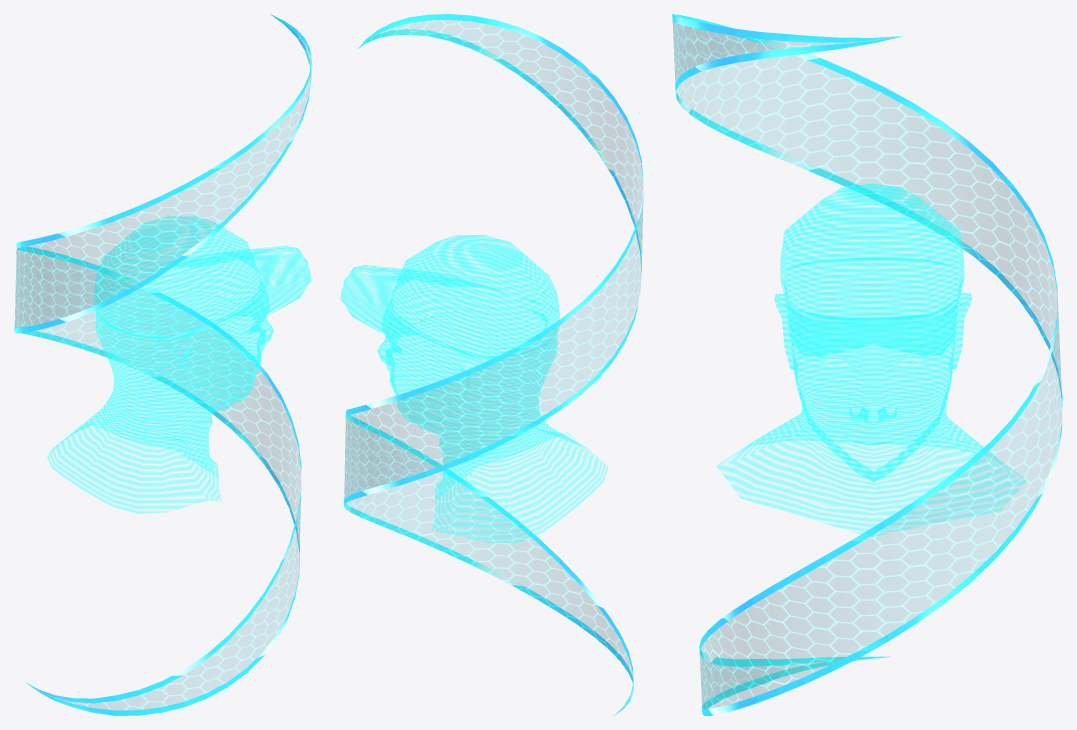
File: hologram.glb
3 renders of one model, left to right at view 1: azimuth 30°, elevation 25°; view 2: azimuth 150°, elevation 25°; view 3: azimuth 270°, elevation 25°, orthographic. The views are drawn at different scales.
Parts seen in each view (by area): view 1: wirehanging_Head_0, Concept 203_hexagon _0; view 2: Concept 203_hexagon _0, wirehanging_Head_0; view 3: Concept 203_hexagon _0, wirehanging_Head_0.
Boxes of the visible parts, x1,y1,x2,y2 form: wirehanging_Head_0: (47,216,311,513); Concept 203_hexagon _0: (14,14,311,715); Concept 203_hexagon _0: (343,14,643,715); wirehanging_Head_0: (340,235,607,542); Concept 203_hexagon _0: (672,14,1062,715); wirehanging_Head_0: (717,183,1026,536).
Size of the model in its own units: 6.79 by 14.91 by 6.73.
3 materials, 1 textured.
